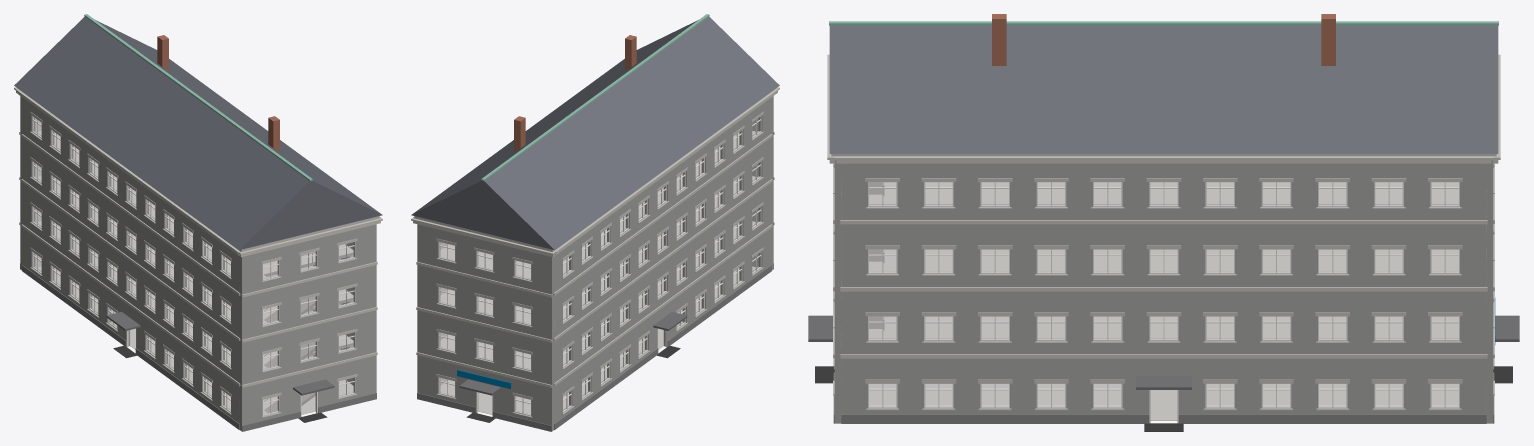
Rendered from SM_Bygg_Hovedbygningen_oest.fbx.
3 renders of one model, left to right at view 1: azimuth 30°, elevation 25°; view 2: azimuth 150°, elevation 25°; view 3: azimuth 270°, elevation 25°, orthographic. The views are drawn at different scales.
Parts seen in each view (by area): view 1: SM_Bygg_Hovedbygningen_oest; view 2: SM_Bygg_Hovedbygningen_oest; view 3: SM_Bygg_Hovedbygningen_oest.
Boxes of the visible parts, <box> form: SM_Bygg_Hovedbygningen_oest: <box>14,14,382,431</box>; SM_Bygg_Hovedbygningen_oest: <box>411,14,779,431</box>; SM_Bygg_Hovedbygningen_oest: <box>808,14,1519,431</box>.
Size of the model in its own units: 43.2 by 17.2 by 25.29.
